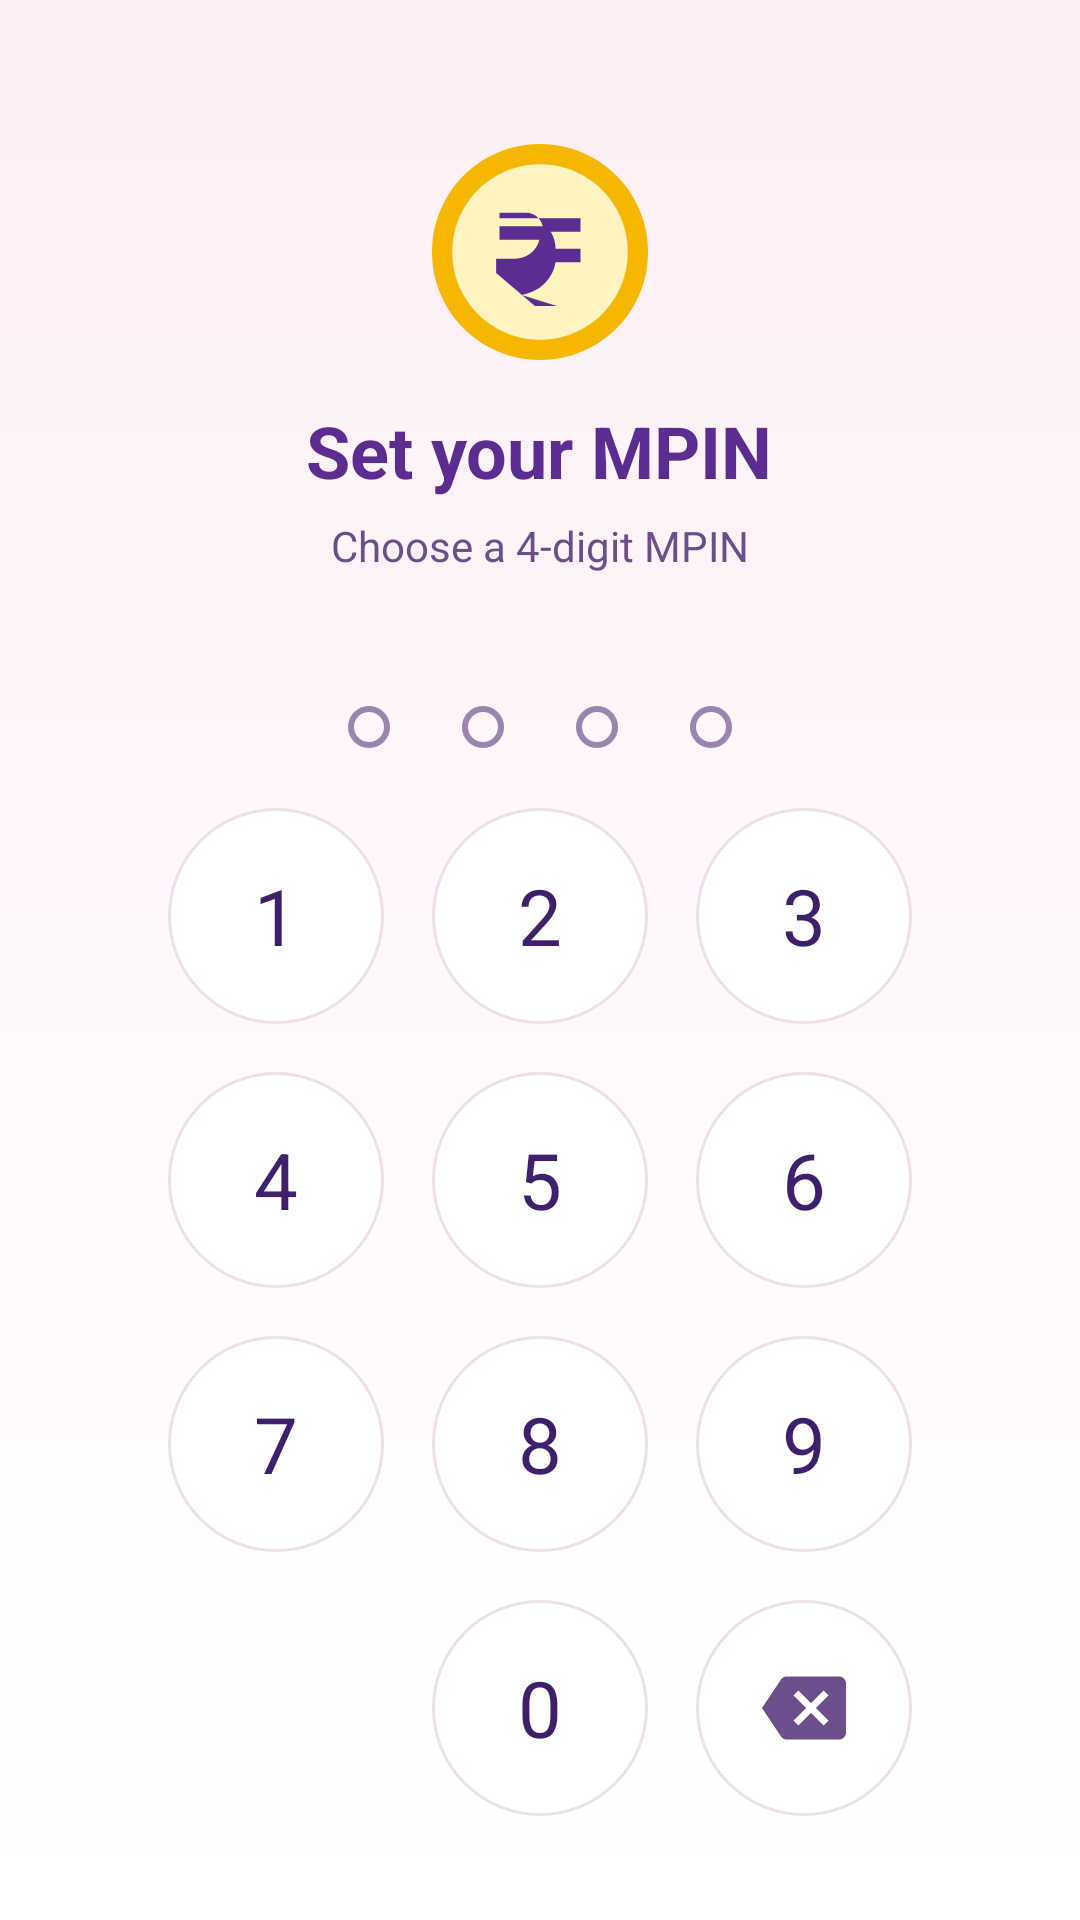

Locate icon controls on the screen. Image size 1080 × 1920, boxes as Rect(x1, y1, x2, y2).
backspace: Rect(696, 1600, 912, 1816)
pin dot empty: Rect(348, 706, 390, 748), Rect(462, 706, 504, 748), Rect(576, 706, 618, 748), Rect(690, 706, 732, 748)
